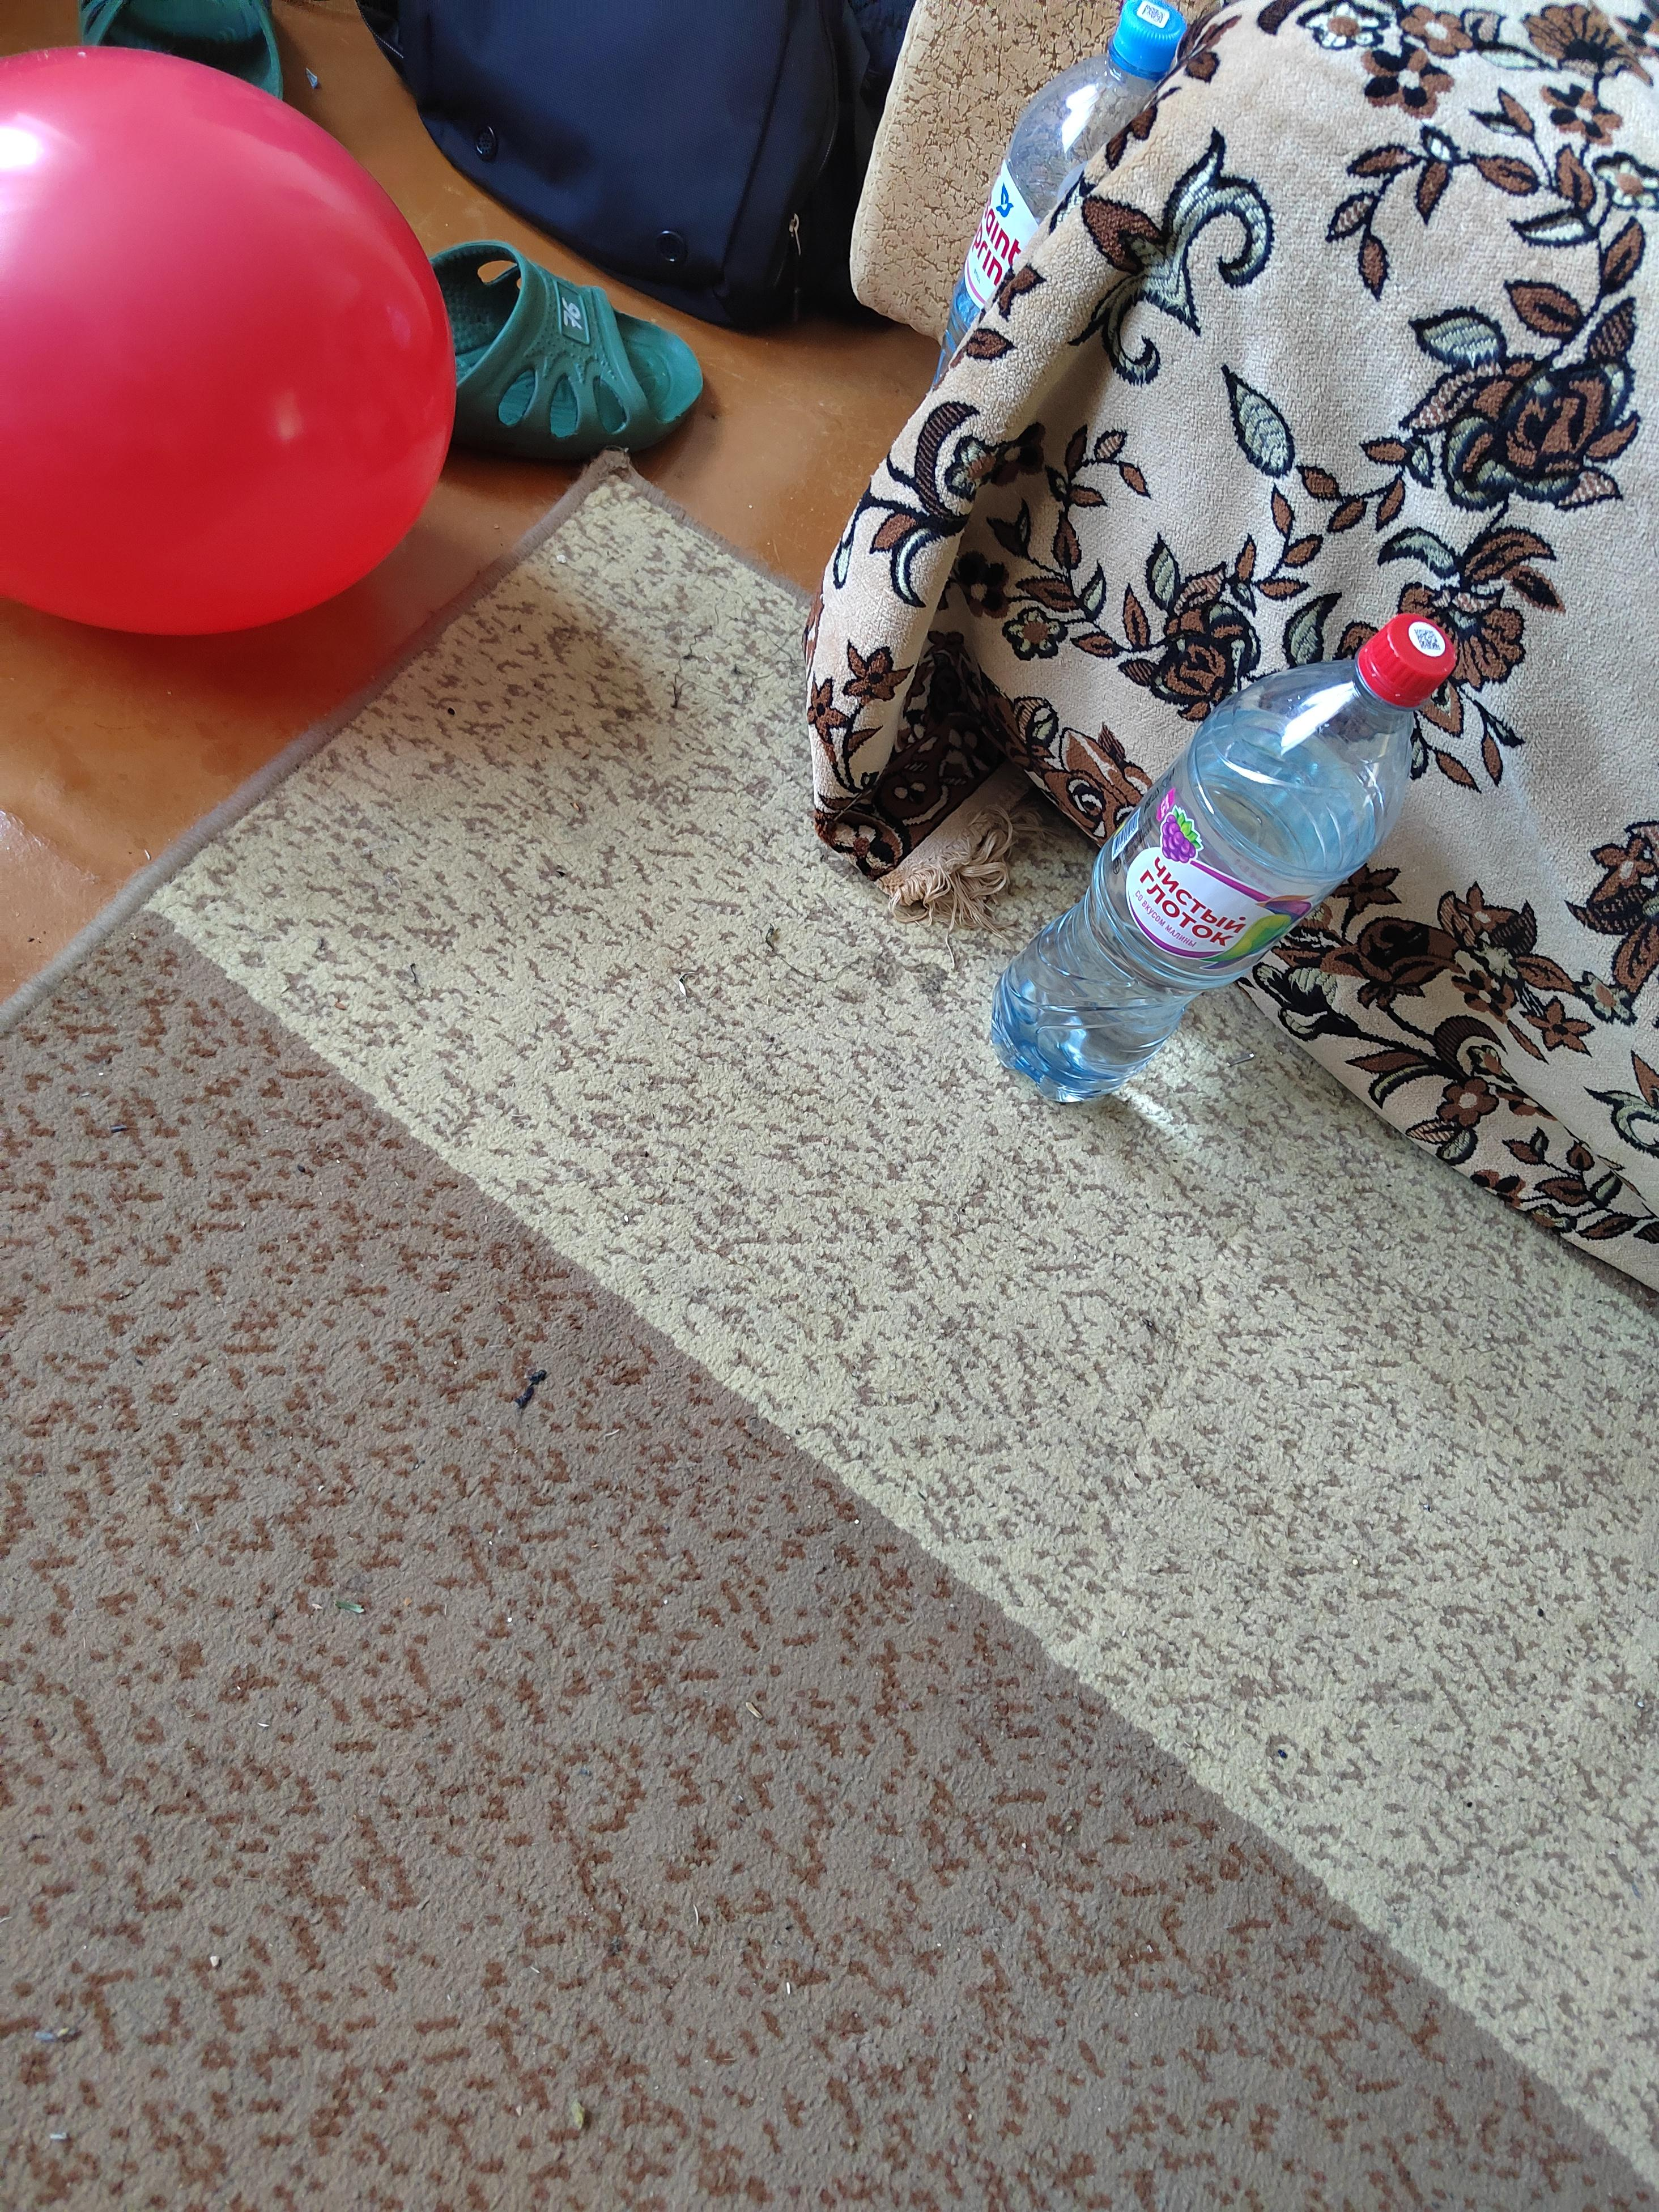red: (0, 35, 472, 669)
